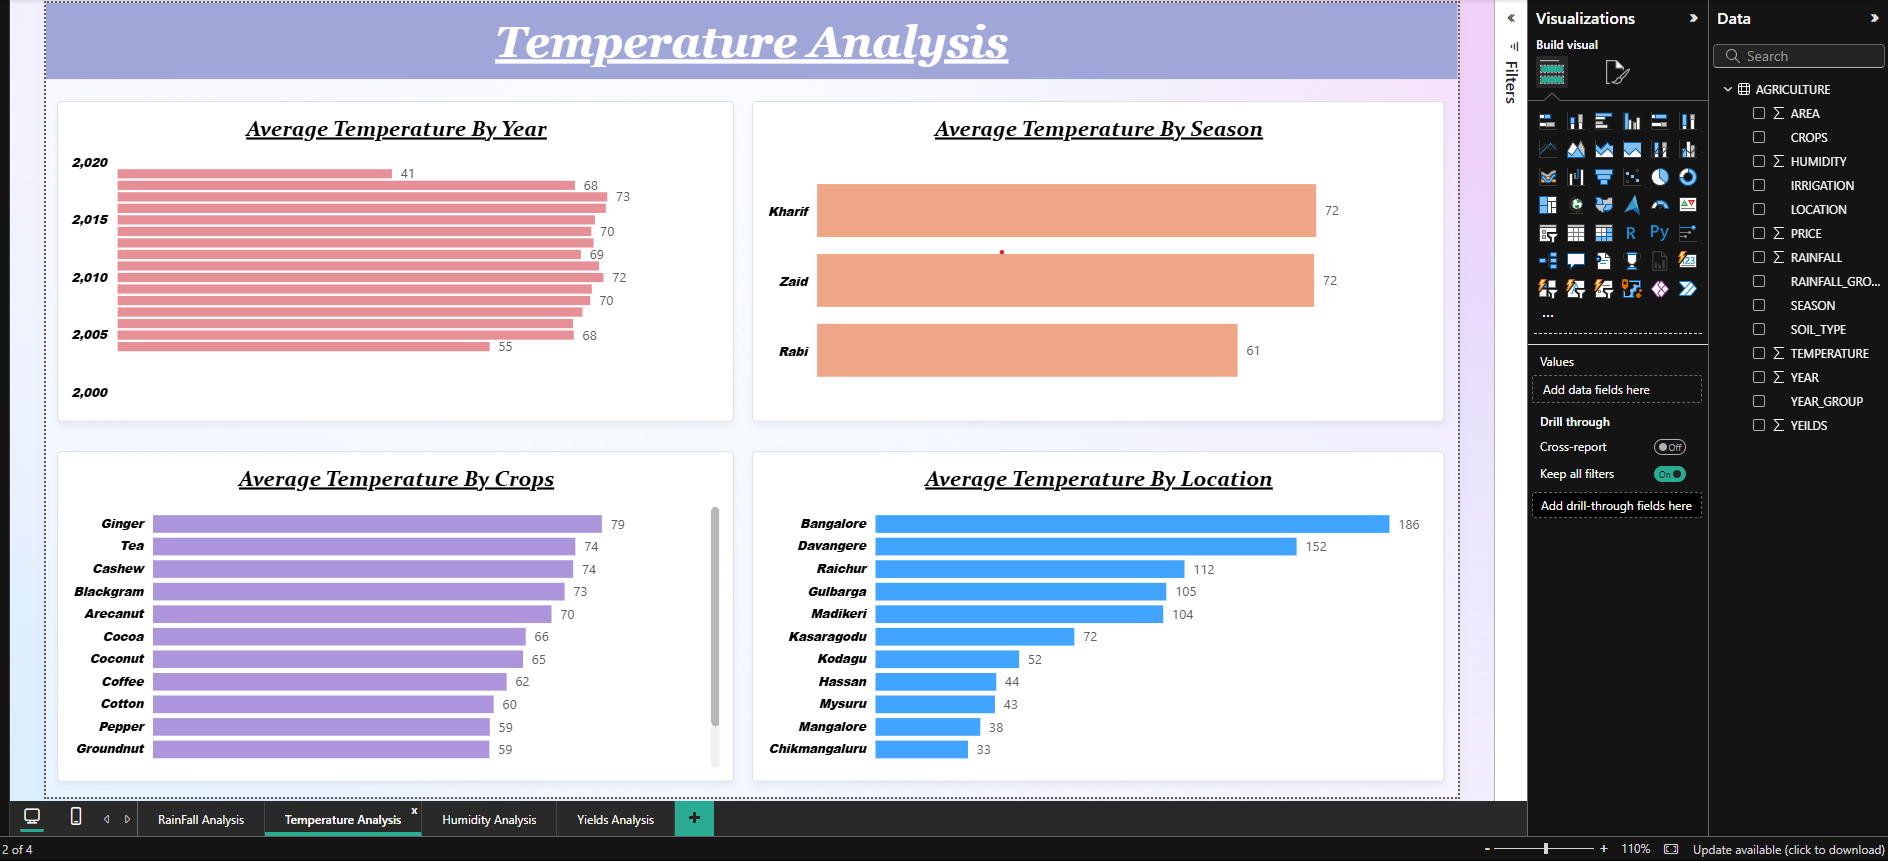

This screenshot's page, from the dashboard's own definition file:
{"tool":"powerbi","page":{"name":"Temperature  Analysis ","canvas":[1280,720],"ordinal":1},"visuals":[{"type":"shape","box":[0,0,1280,69.1],"z":0},{"type":"barChart","title":"Average Temperature By Year","fields":{"Category":["AGRICULTURE.YEAR"],"Y":["Avg(AGRICULTURE.TEMPERATURE)"]},"box":[10,88.9,613.9,291.1],"z":1},{"type":"barChart","title":"Average Temperature By Season","fields":{"Category":["AGRICULTURE.SEASON"],"Y":["Avg(AGRICULTURE.TEMPERATURE)"]},"box":[640.2,88.9,627.5,291.1],"z":2},{"type":"barChart","title":"Average Temperature By Crops","fields":{"Category":["AGRICULTURE.CROPS"],"Y":["Avg(AGRICULTURE.TEMPERATURE)"]},"box":[10,406.2,613.9,300.2],"z":3},{"type":"barChart","title":"Average Temperature By Location","fields":{"Category":["AGRICULTURE.LOCATION"],"Y":["Avg(AGRICULTURE.TEMPERATURE)"]},"box":[640.2,406.2,627.5,300.2],"z":4}]}

Visuals, with their boxes on the page's 1280x720 design canvas (x1, y1, x2, y2). These are canvas units, not pixel positions in the 1888x861 screenshot, which may show the page scaled, cropped or inside an application window:
shape: <region>0, 0, 1280, 69</region>
"Average Temperature By Year" barChart: <region>10, 89, 624, 380</region>
"Average Temperature By Season" barChart: <region>640, 89, 1268, 380</region>
"Average Temperature By Crops" barChart: <region>10, 406, 624, 706</region>
"Average Temperature By Location" barChart: <region>640, 406, 1268, 706</region>
